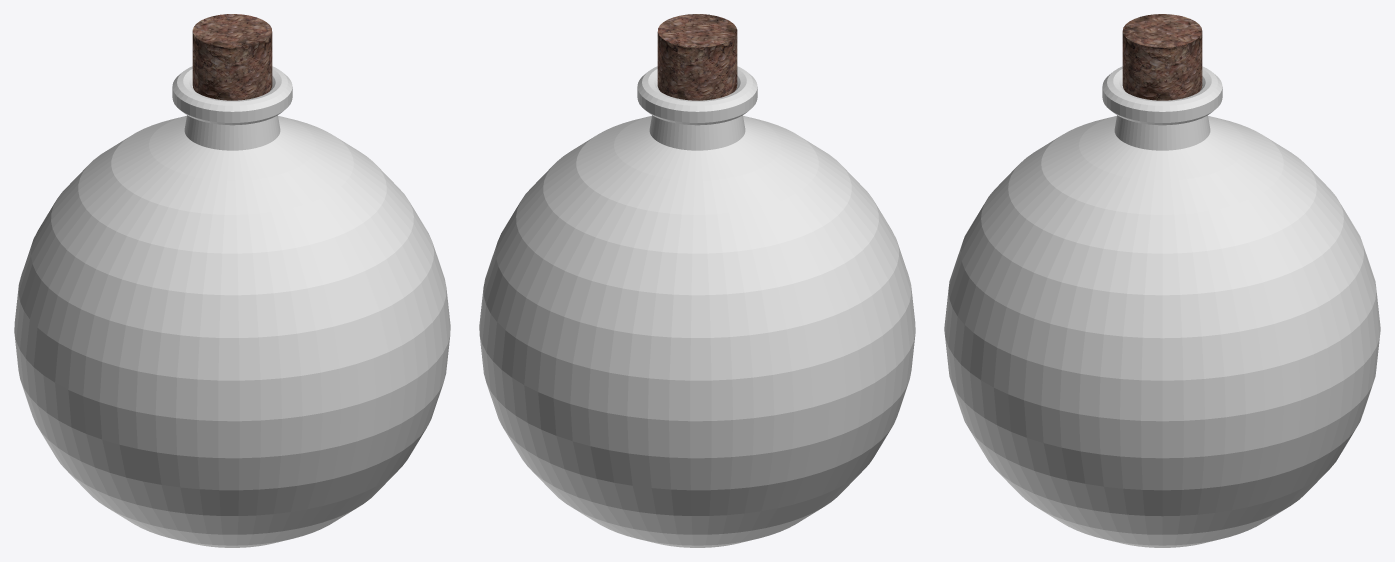
Rendered from medic-dotabottlethrow.glb.
The picture shows the model from 3 angles, left to right: view 1: azimuth 30°, elevation 25°; view 2: azimuth 150°, elevation 25°; view 3: azimuth 270°, elevation 25°; orthographic projection.
Parts seen in each view (by area): view 1: geometry_1, geometry_0; view 2: geometry_1, geometry_0; view 3: geometry_1, geometry_0.
Part boxes in pixels (x1,y1,x2,y2): geometry_1: [14, 66, 450, 547]; geometry_0: [192, 14, 272, 100]; geometry_1: [479, 66, 915, 547]; geometry_0: [657, 14, 737, 100]; geometry_1: [944, 66, 1380, 547]; geometry_0: [1122, 14, 1202, 100].
Bounding box in the file's own units: 1.56 × 1.96 × 1.56.
3 materials, 1 textured.
